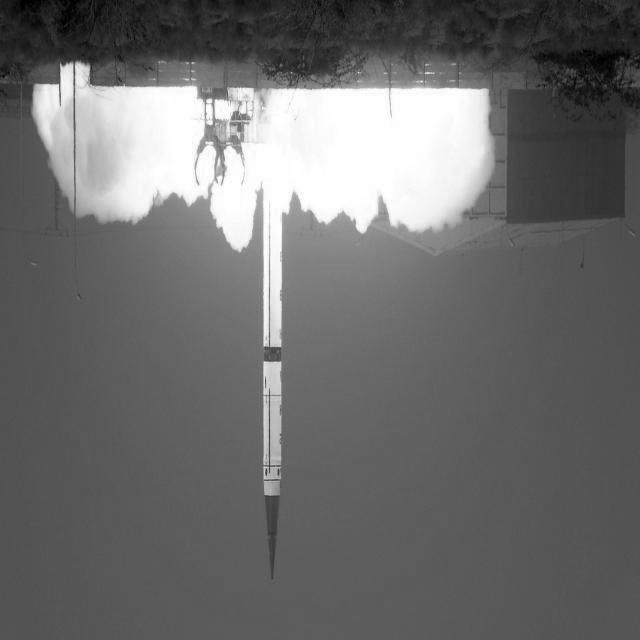Missile: (255, 150, 288, 600)
